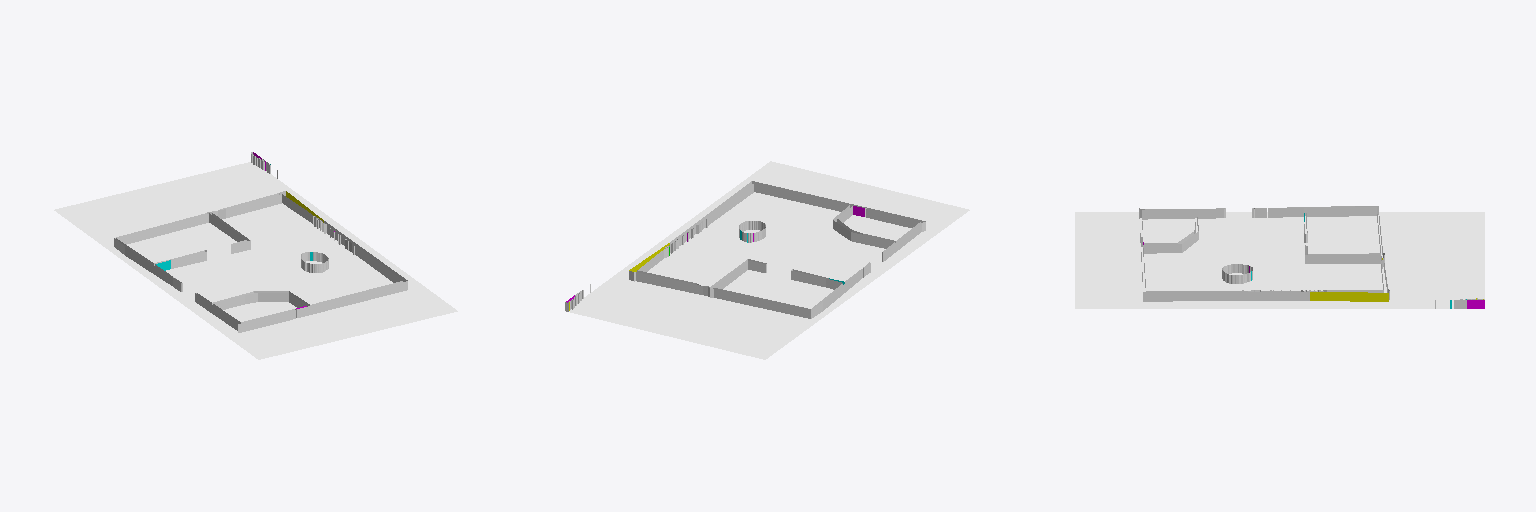
The model's file is floorplan8.obj.
3 views of the same model, side by side, from view 1: azimuth 30°, elevation 25°; view 2: azimuth 150°, elevation 25°; view 3: azimuth 270°, elevation 25° (orthographic).
Parts seen in each view (by area): view 1: Floor, Box16Wall383, Room0, Box11Wall191, Box16Wall373; view 2: Floor, Room0, Box11Wall202, Box16Wall406, Box16Wall388; view 3: Floor, Box16Wall384, Room0, Box16Wall385, Box11Wall196, Box11Wall190.
Boxes of the visible parts, x1=… form: Floor: x1=54, y1=162, x2=457, y2=359; Box16Wall383: x1=297, y1=281, x2=407, y2=317; Room0: x1=223, y1=302, x2=295, y2=321; Box11Wall191: x1=117, y1=214, x2=208, y2=244; Box16Wall373: x1=238, y1=310, x2=295, y2=332; Floor: x1=569, y1=161, x2=969, y2=359; Room0: x1=844, y1=215, x2=911, y2=240; Box11Wall202: x1=714, y1=289, x2=810, y2=318; Box16Wall406: x1=754, y1=183, x2=848, y2=211; Box16Wall388: x1=636, y1=272, x2=702, y2=294; Floor: x1=1075, y1=212, x2=1484, y2=308; Box16Wall384: x1=1143, y1=292, x2=1309, y2=301; Room0: x1=1142, y1=219, x2=1194, y2=242; Box16Wall385: x1=1310, y1=292, x2=1388, y2=301; Box11Wall196: x1=1305, y1=255, x2=1380, y2=263; Box11Wall190: x1=1307, y1=207, x2=1376, y2=216.
Bounding box in the file's own units: 22.67 × 1 × 40.31.